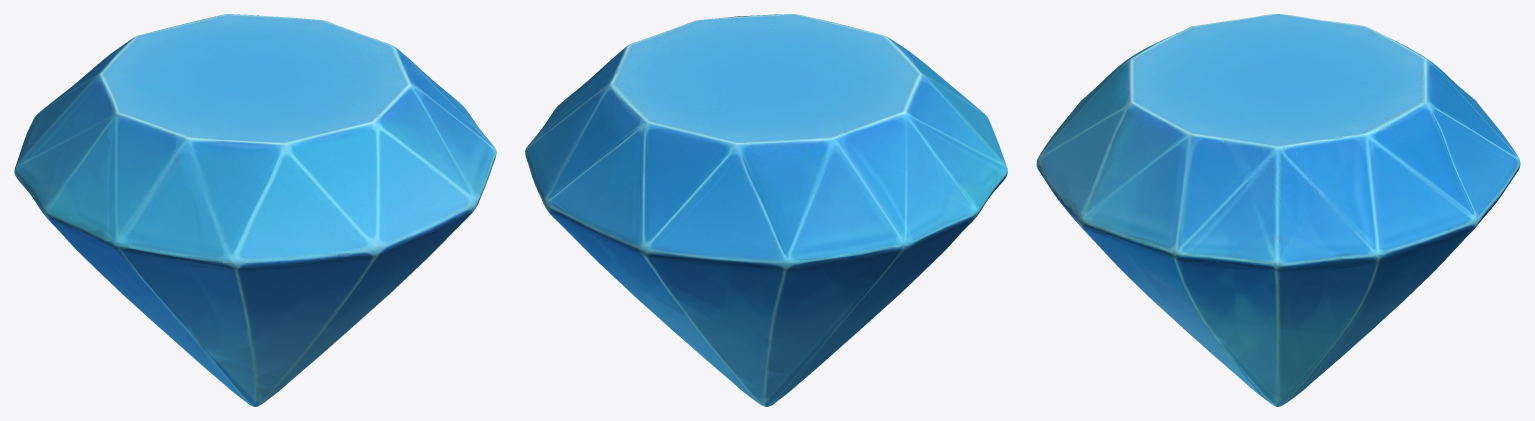
Rendered from gem.glb.
The picture shows the model from 3 angles, left to right: view 1: azimuth 30°, elevation 25°; view 2: azimuth 150°, elevation 25°; view 3: azimuth 270°, elevation 25°; orthographic projection.
Size of the model in its own units: 1.9 by 1.41 by 1.9.
1 material, 1 textured.
